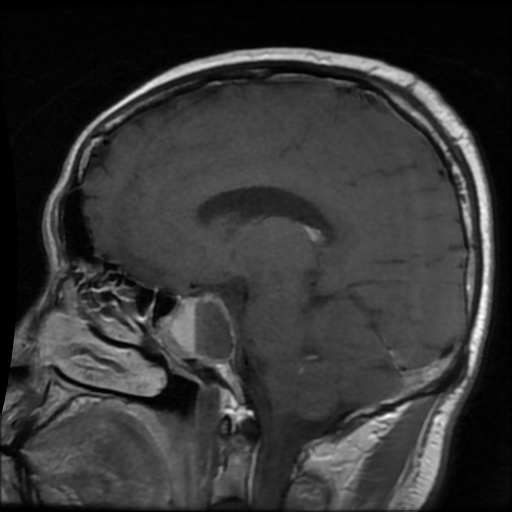pituitary: (165, 291, 238, 364)
